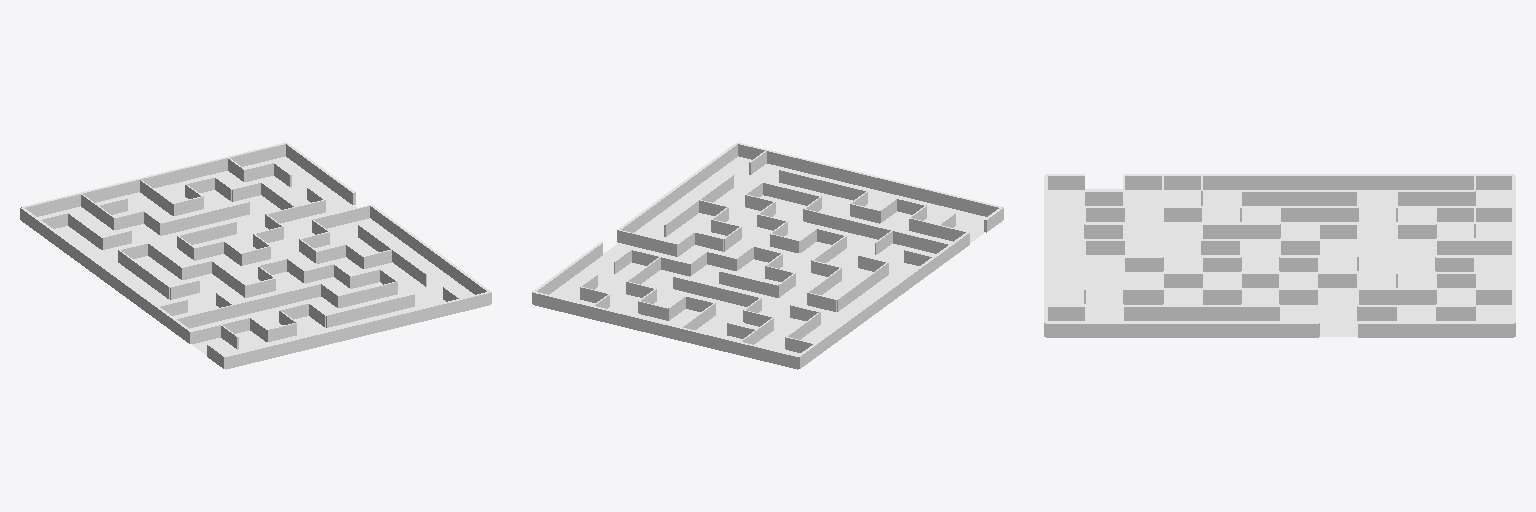
The robot description file, URDF, robot "maze_easy":
<robot name="maze_easy">
  <link name="base_link">
    <visual>
      <origin xyz="0 0 0" rpy="0 0 0" />
      <geometry>
        <mesh filename="package://hpp_environments/meshes/multicontact/maze_easy.stl"/>
      </geometry>
      <material name="white">
        <color rgba="1 1 1 1"/>
      </material>
    </visual>
    <collision>
      <origin xyz="0 0 0" rpy="0 0 0" />
      <geometry>
        <mesh filename="package://hpp_environments/meshes/multicontact/maze_easy.stl"/>
      </geometry>
    </collision>
  </link>
</robot>

--- Facts derived from the render (not from the file) ---
The picture shows the robot from 3 angles, left to right: view 1: azimuth 30°, elevation 25°; view 2: azimuth 150°, elevation 25°; view 3: azimuth 270°, elevation 25°; orthographic projection.
Robot: maze_easy — 1 links, 0 joints (none); root link base_link; default pose: every joint at zero.
Links seen in each view (by area): view 1: base_link; view 2: base_link; view 3: base_link.
Link boxes in pixels (bbox=[...]): base_link: bbox=[20, 142, 491, 369]; base_link: bbox=[532, 142, 1003, 369]; base_link: bbox=[1044, 174, 1515, 337].
Bounding box of the posed robot: 18.2 × 24.2 × 0.805 m (x, y, z).
1 mesh visuals loaded from 1 distinct referenced files (1 binary STL).